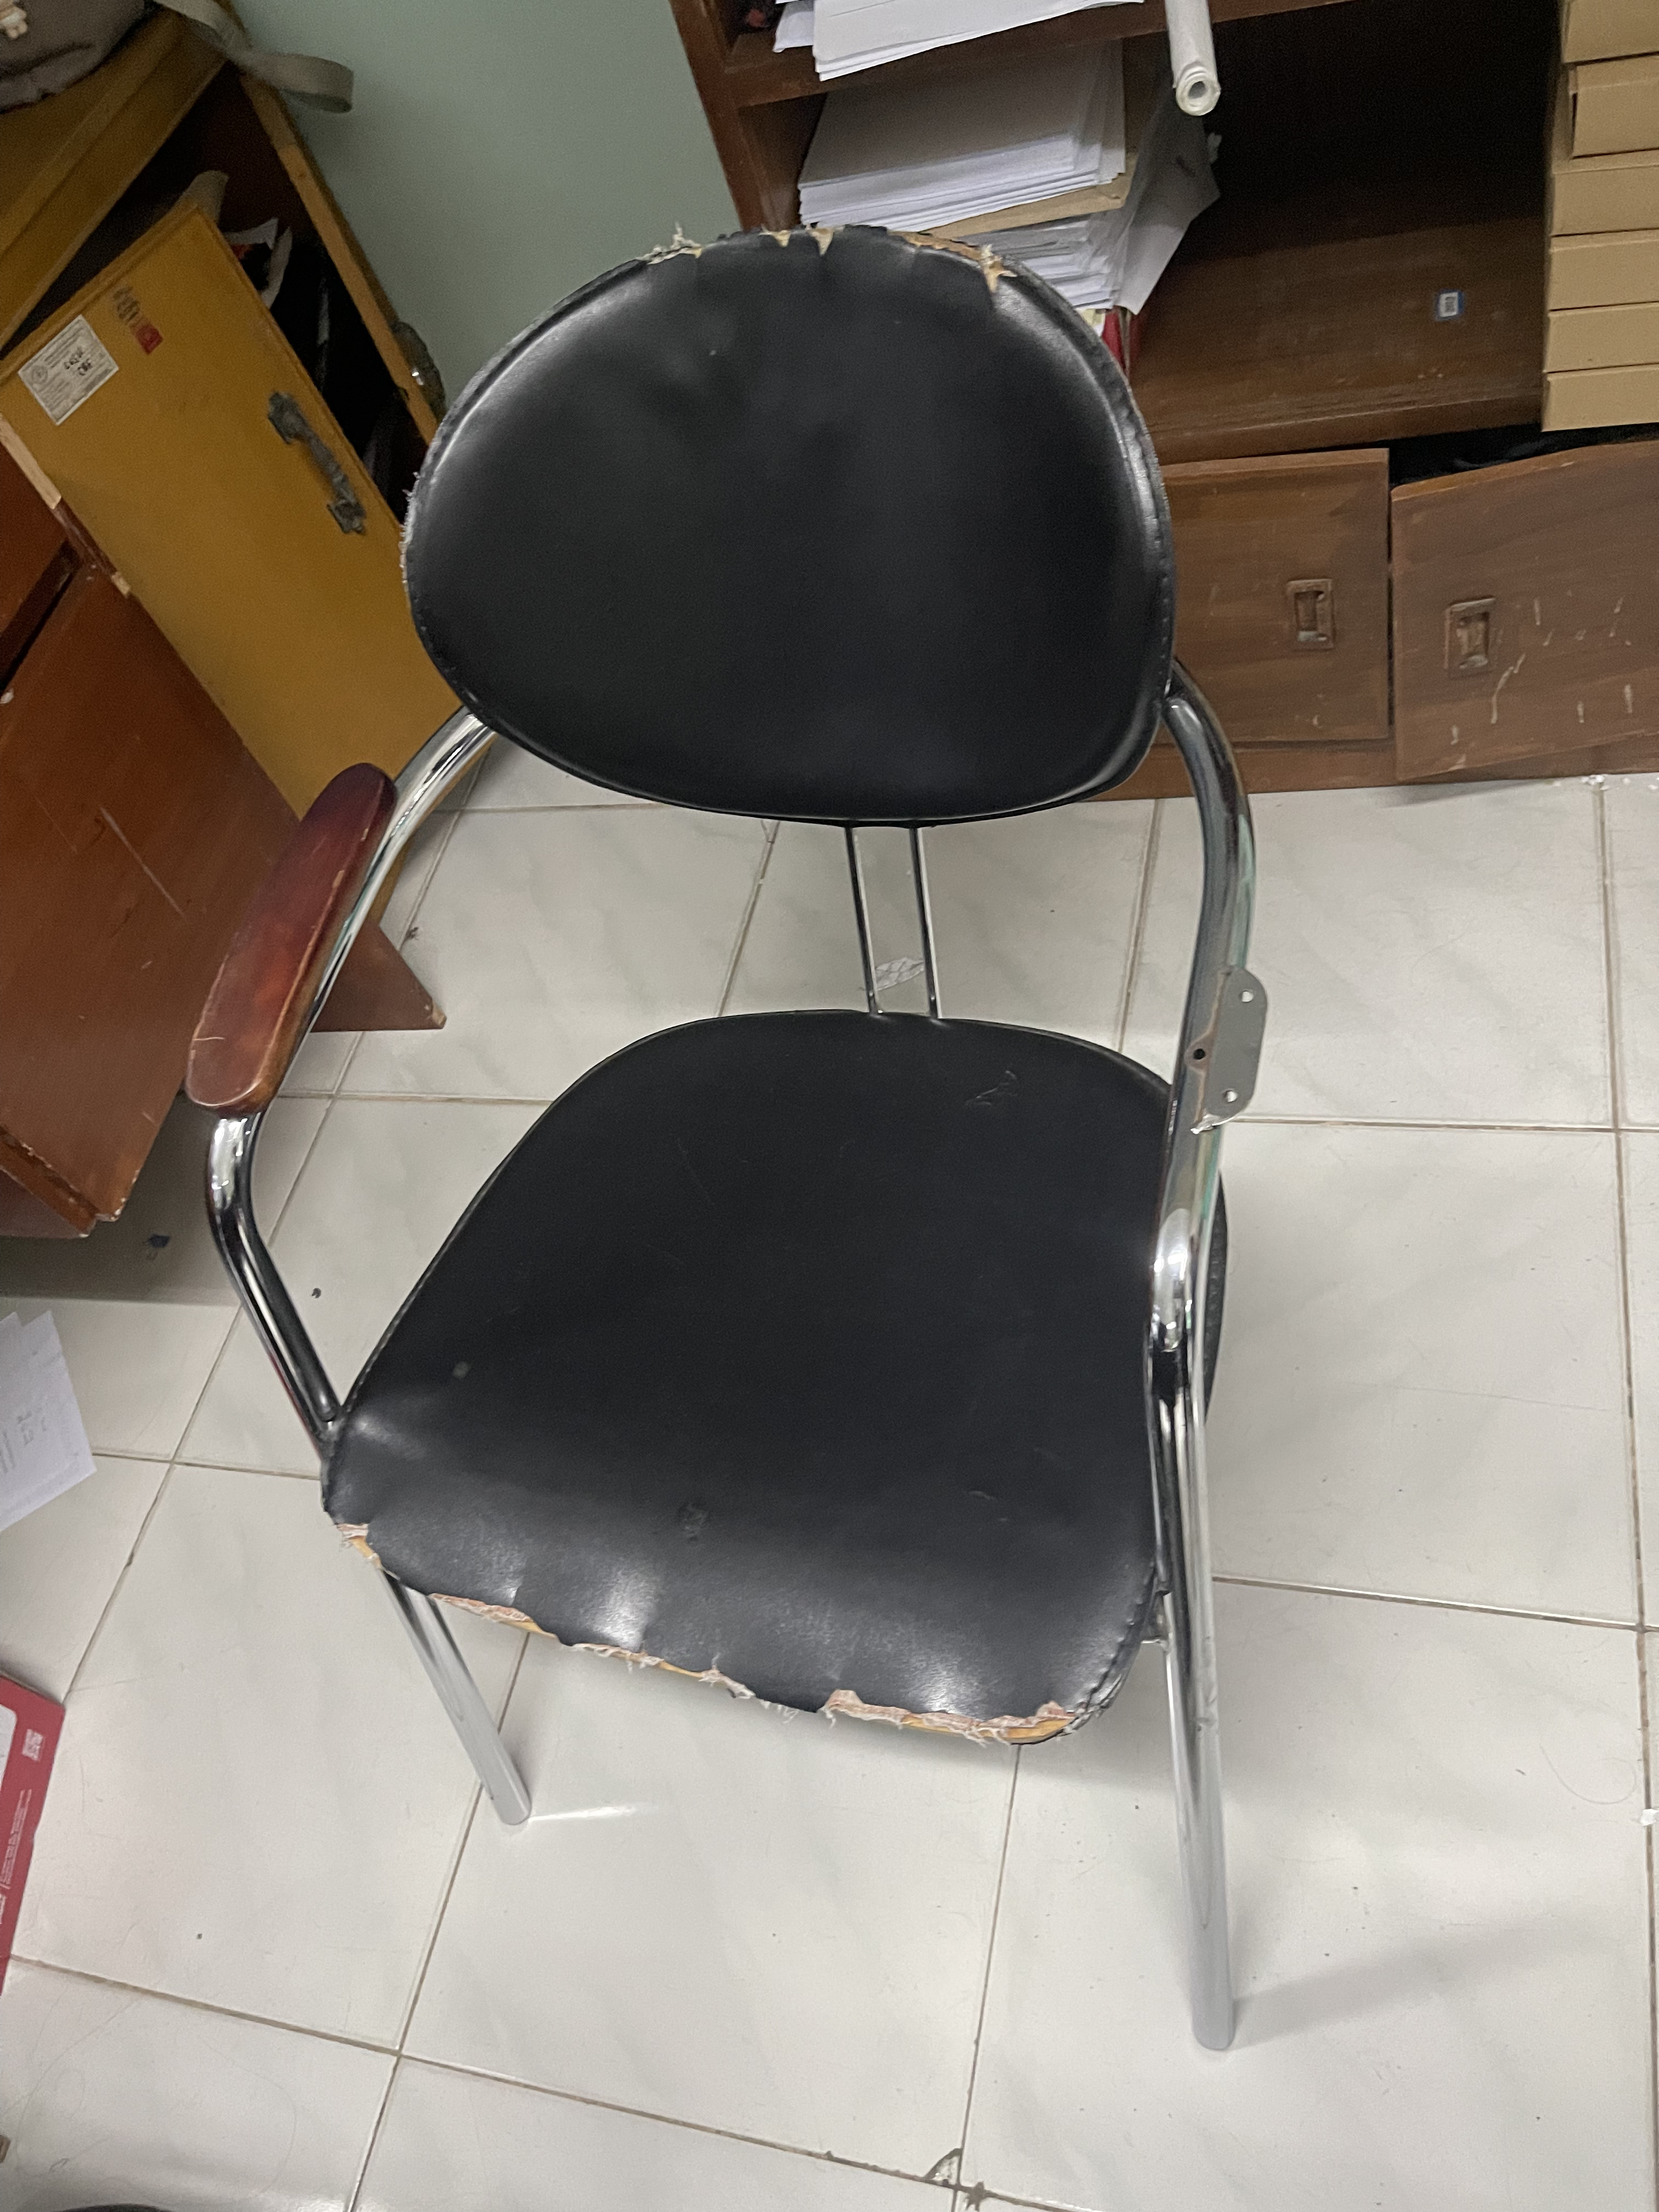chair1: (183, 230, 1270, 2057)
